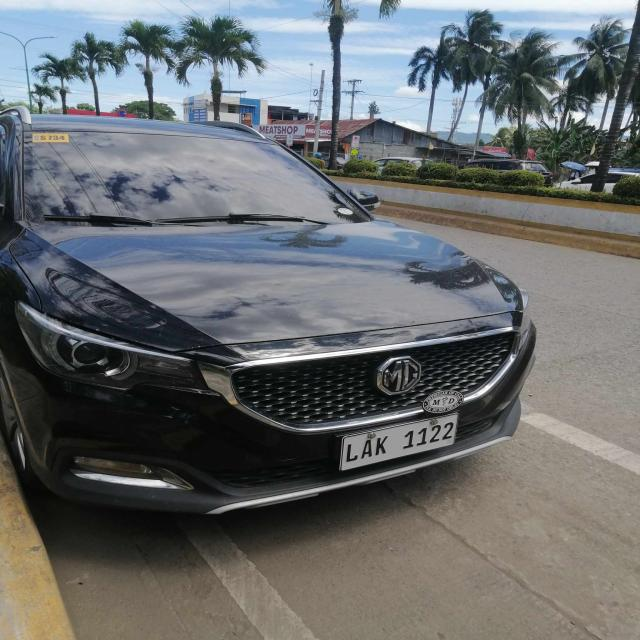license-plate: (338, 411, 461, 473)
